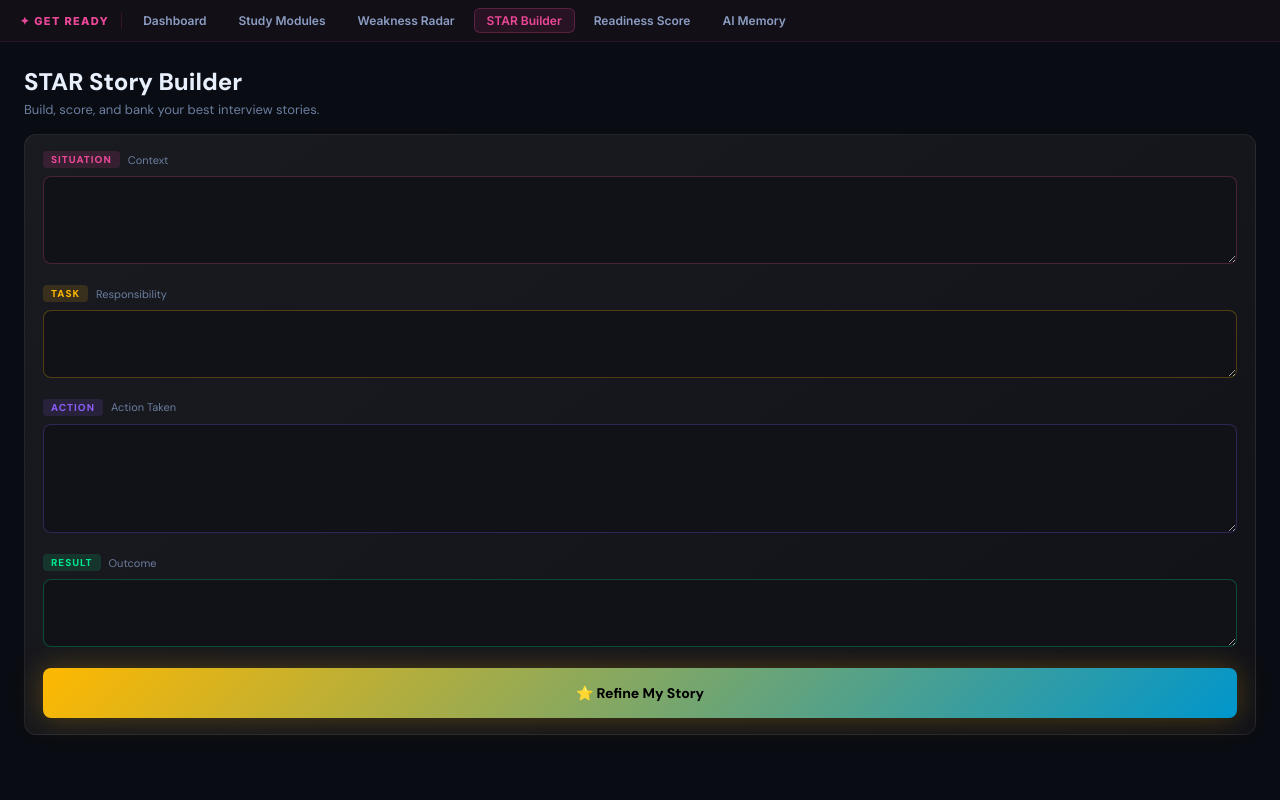
Test: STARBuilder › opens sign-up for guests (401)
The width and height of the screenshot is (1280, 800).
Type "Our checkout team had to migrate platforms while 2 million users shopped daily." into the text box named "Situation" at (640, 220), box [43, 176, 1237, 264]
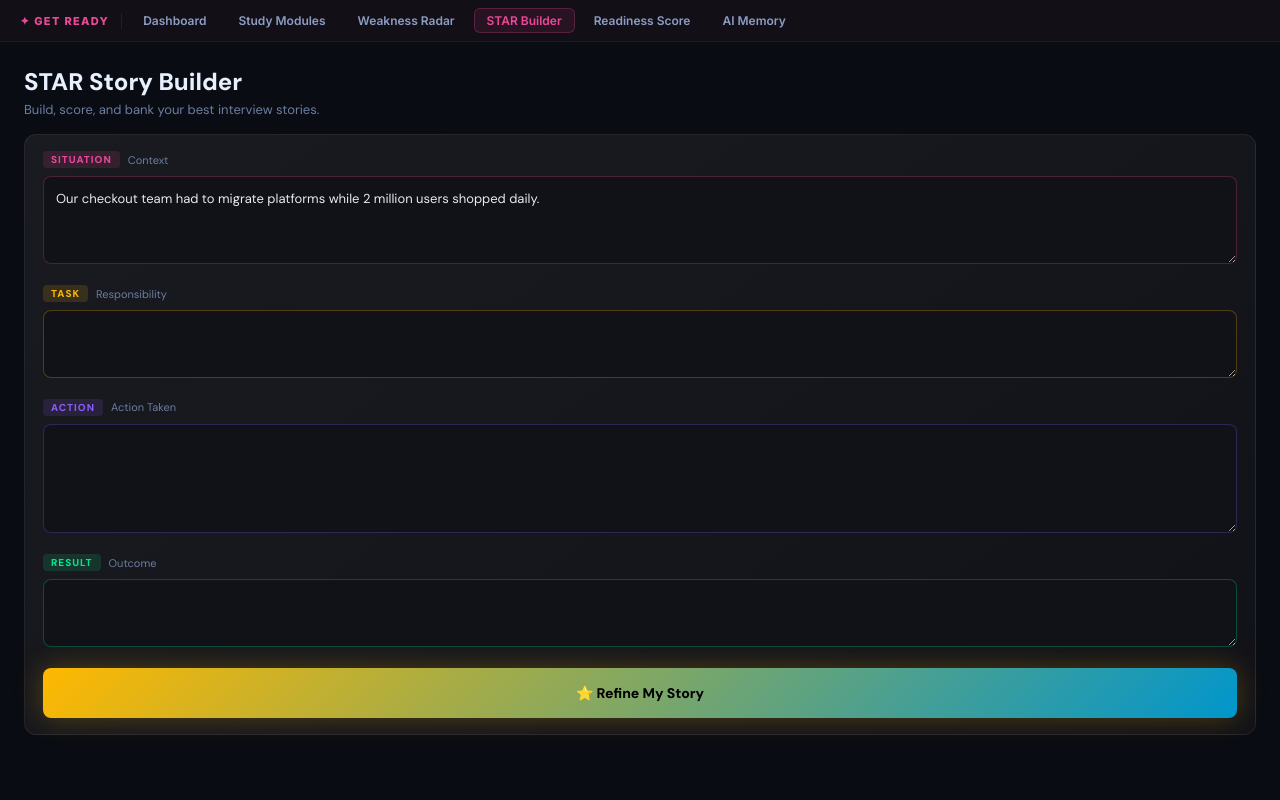
Type "I owned the migration plan and had to avoid downtime." into the text box named "Task" at (640, 344), box [43, 310, 1237, 378]
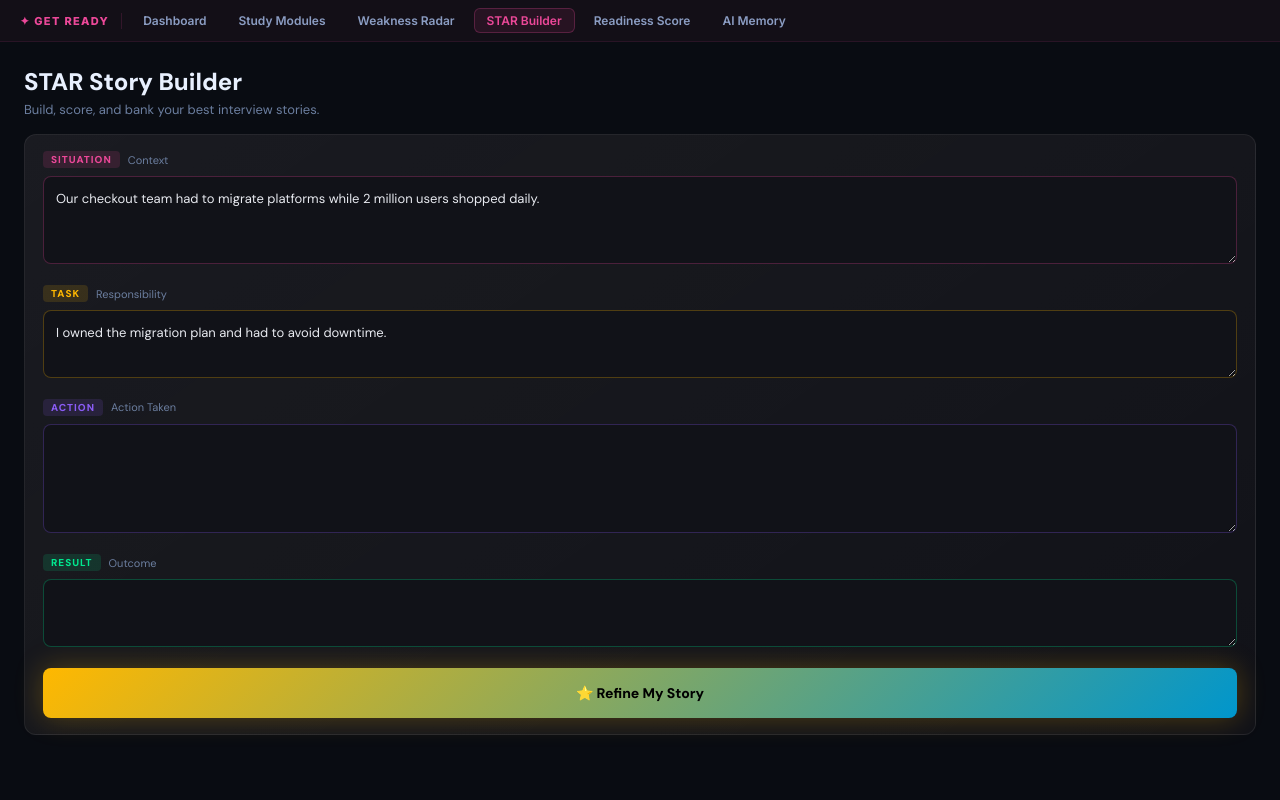
Type "I set up blue-green deployments and wrote rollback scripts." into the text box named "Action" at (640, 479), box [43, 424, 1237, 533]
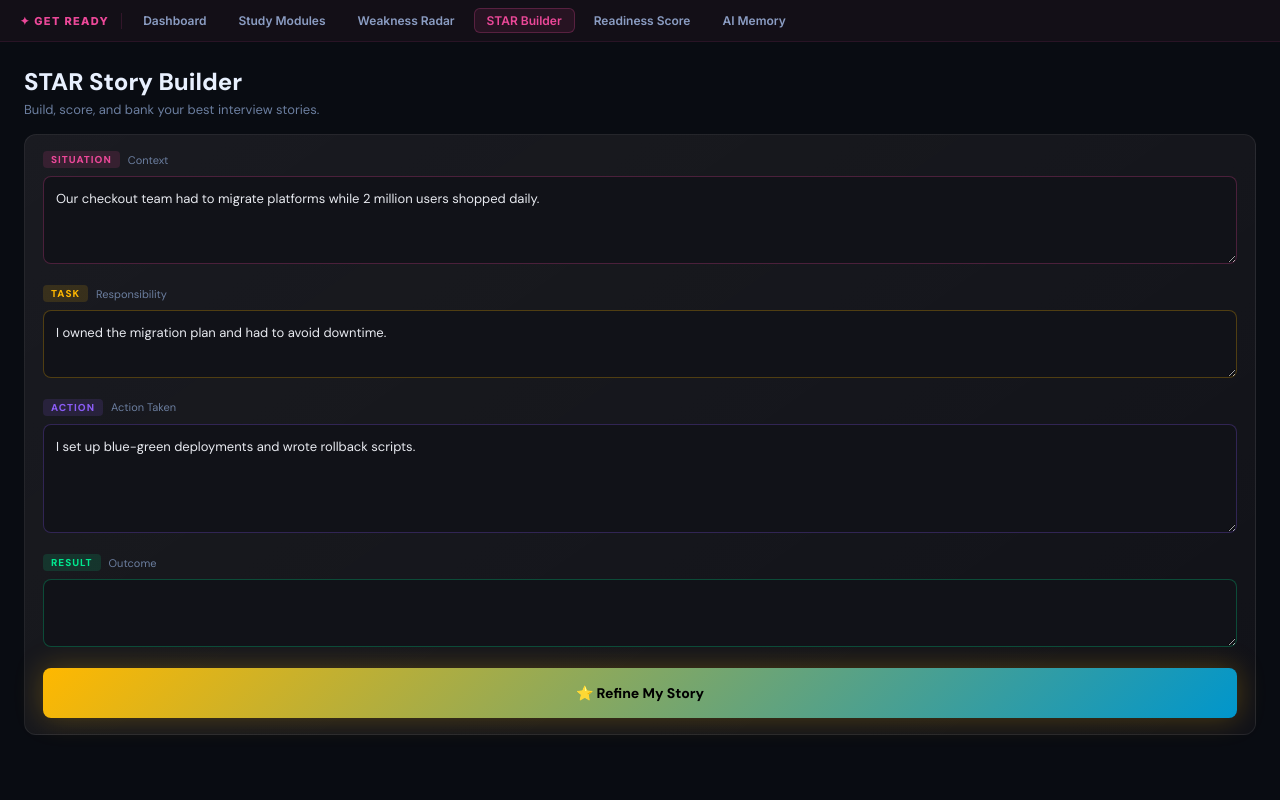
Type "We finished with no downtime and conversion rose 15 percent." into the text box named "Result" at (640, 613), box [43, 579, 1237, 647]
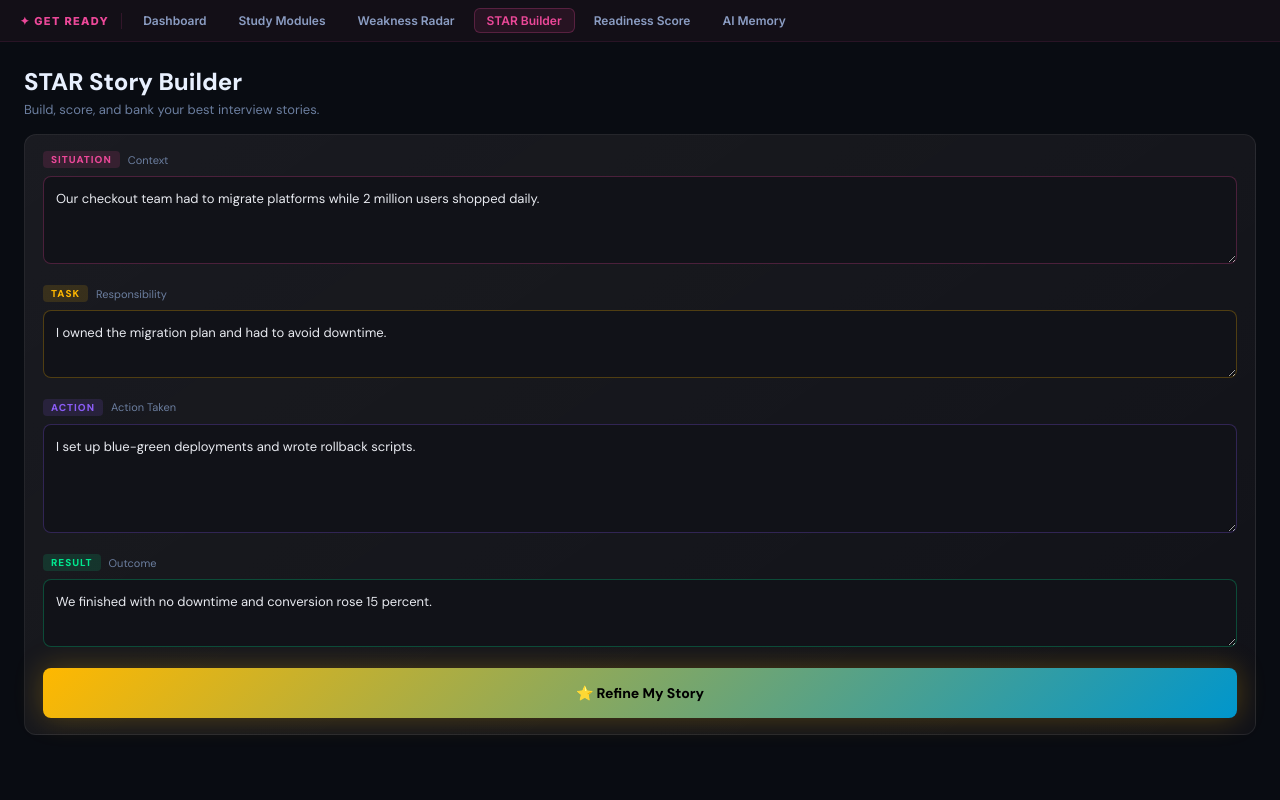
Click the button "⭐ Refine My Story" at (640, 693), box [43, 668, 1237, 718]
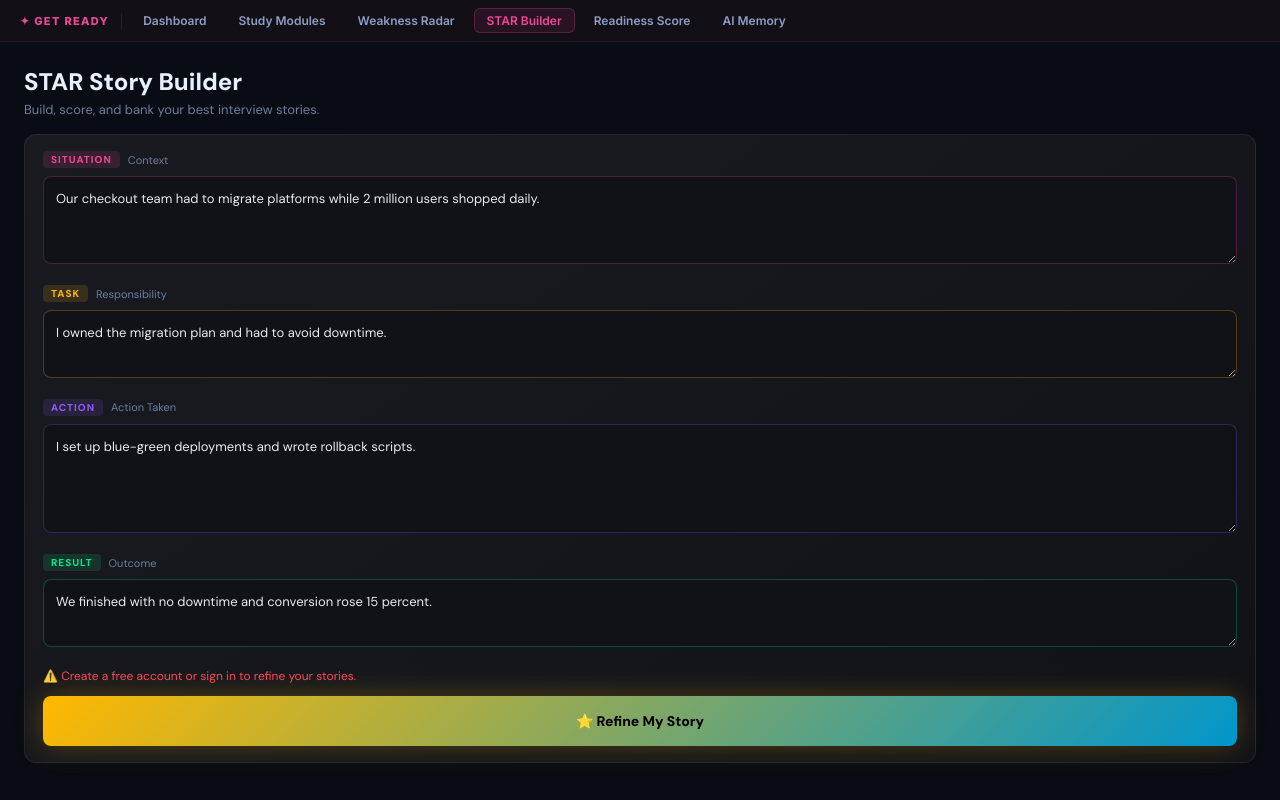
Check: the message shows "Create a free account", box [61, 668, 356, 684]
